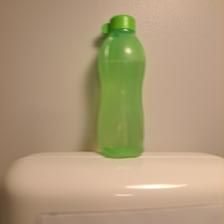bottle: (91, 13, 148, 159)
